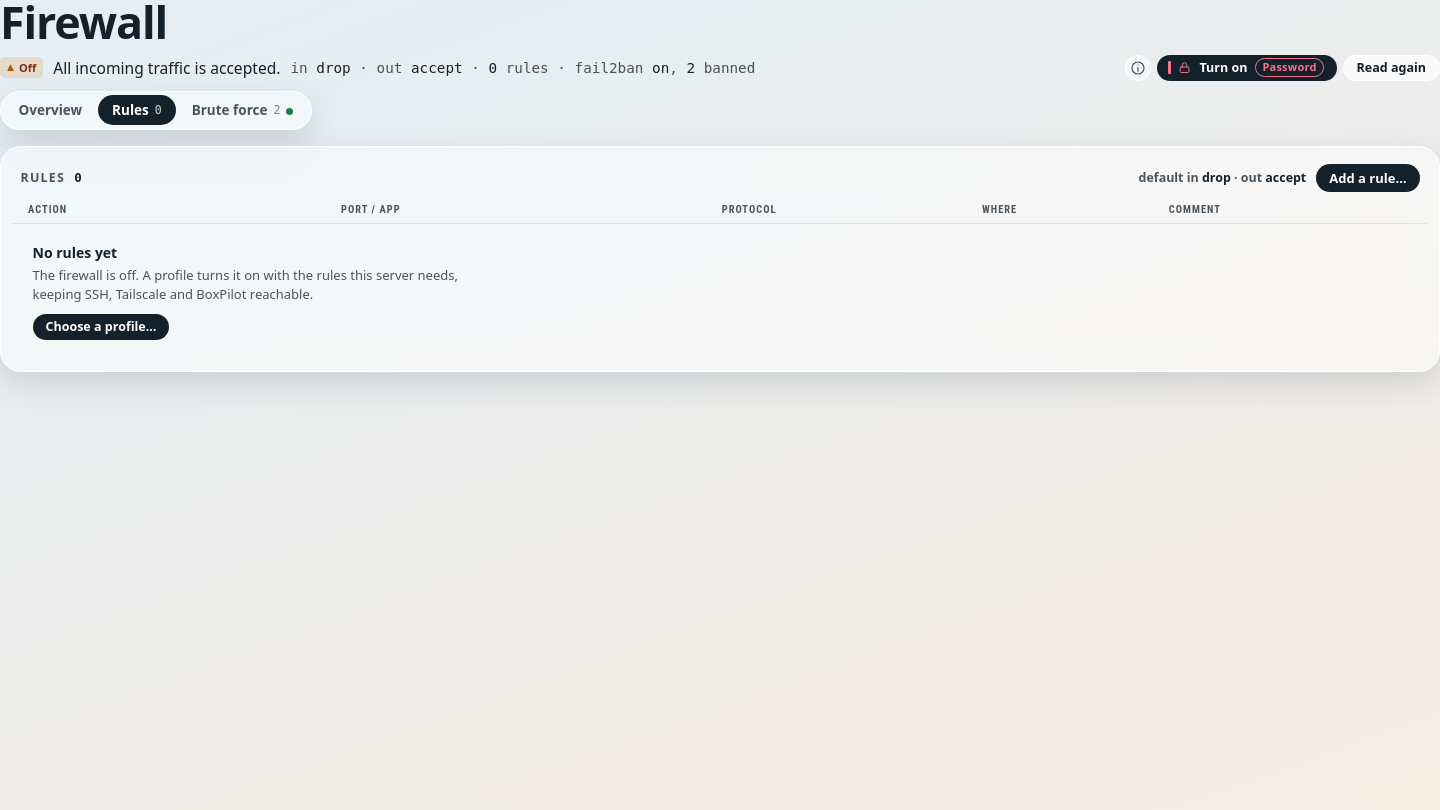
Firewall page › offers a profile where an empty, switched-off firewall's rules would be
Expected: the text "The firewall is off. A profile turns it on" is shown, [32,266,458,303]
Click the button "Choose a profile…" at (101, 326), box [32,314,169,340]
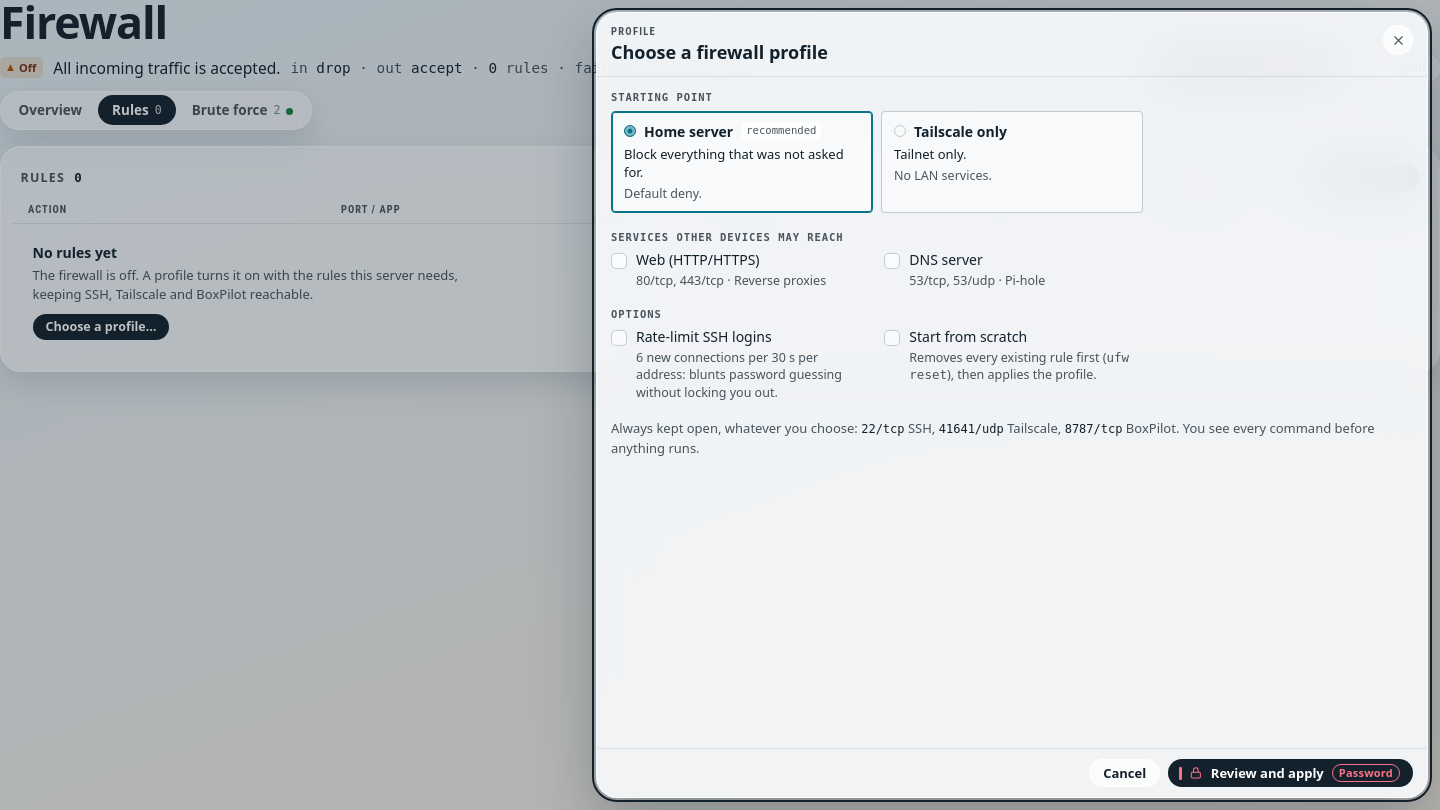
Now the dialog "Choose a firewall profile" is shown, box [596,12,1428,798]
